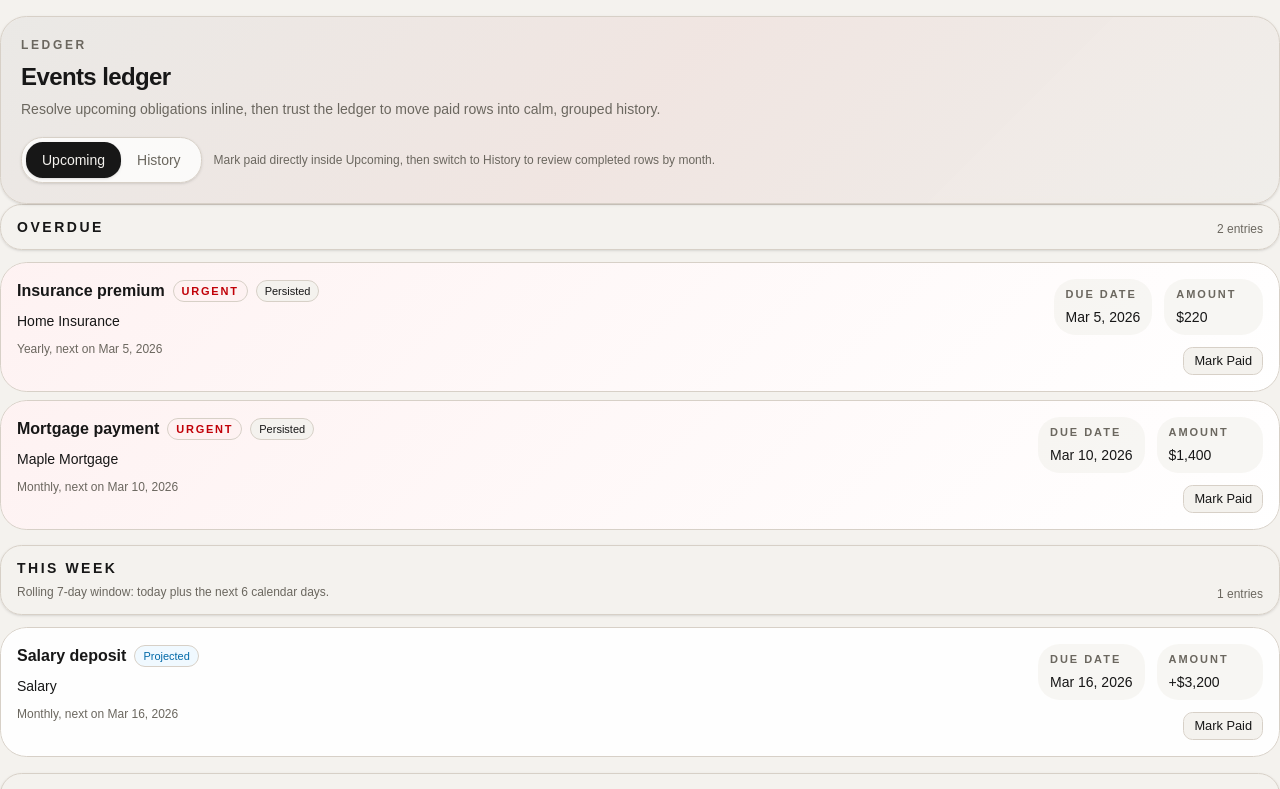
events ledger page › renders populated History grouped by reverse-chronological paid month
Click the tab "History". click: coordinates (159, 160)
box: [121, 142, 197, 178]
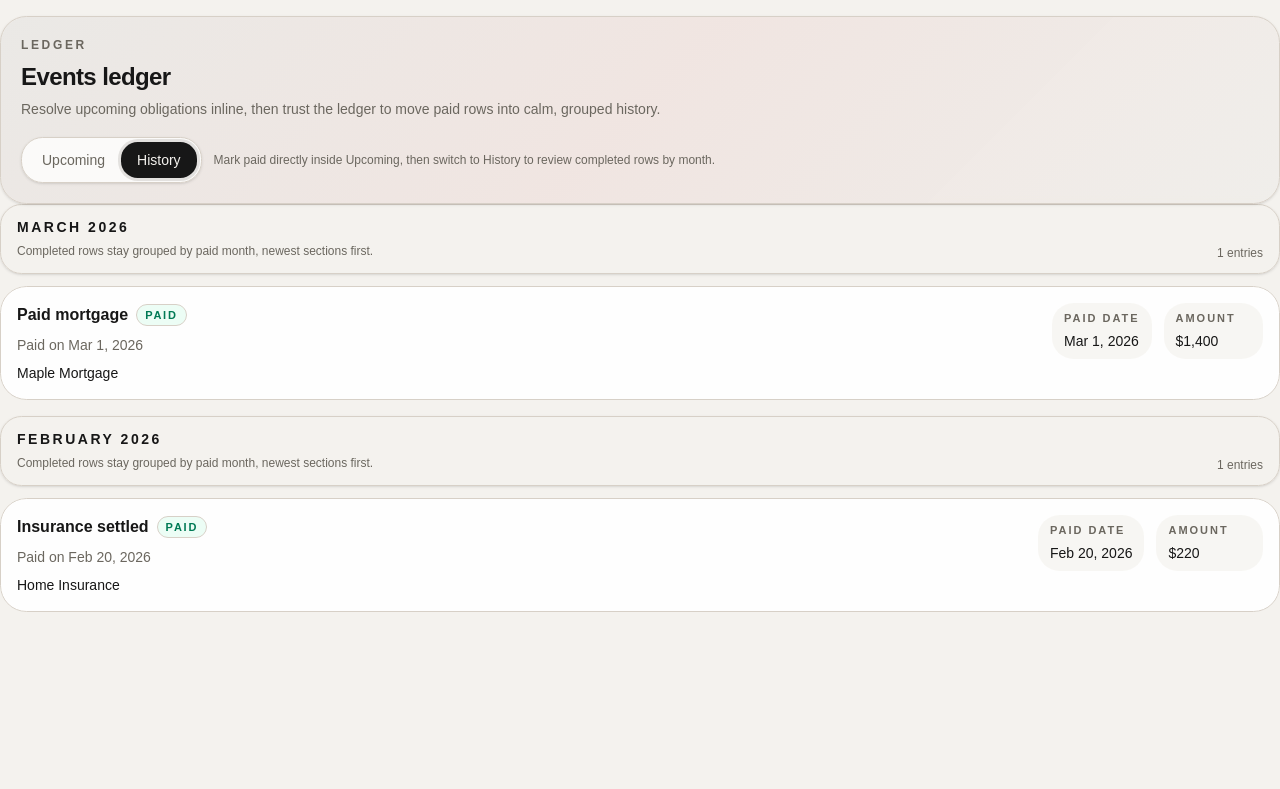
Check: the heading "March 2026" is shown, box [17, 219, 129, 235]
Check: the heading "February 2026" is shown, box [17, 431, 162, 447]
Check: the text "Paid on Mar 1, 2026" is shown, box [17, 337, 143, 353]
